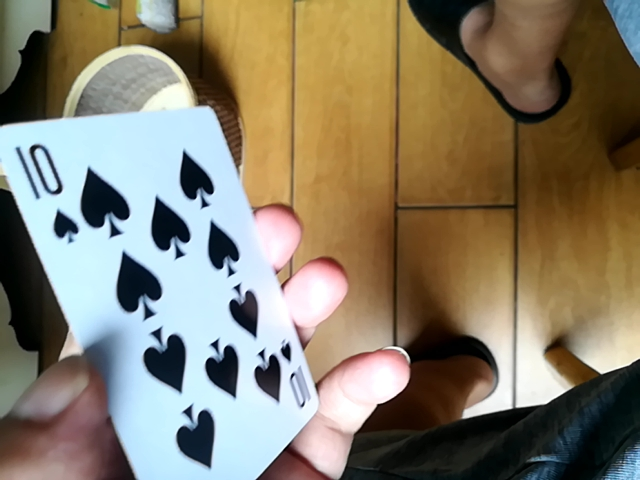ht 10: (1, 97, 327, 477)
